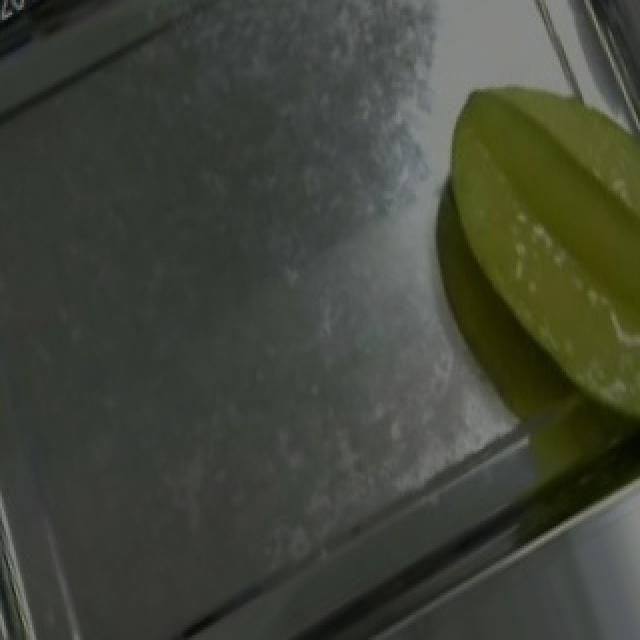fruit: (394, 42, 640, 407)
